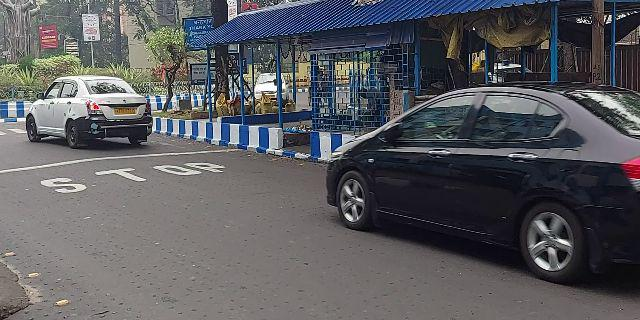Car: (323, 82, 640, 279), (23, 69, 168, 144)
